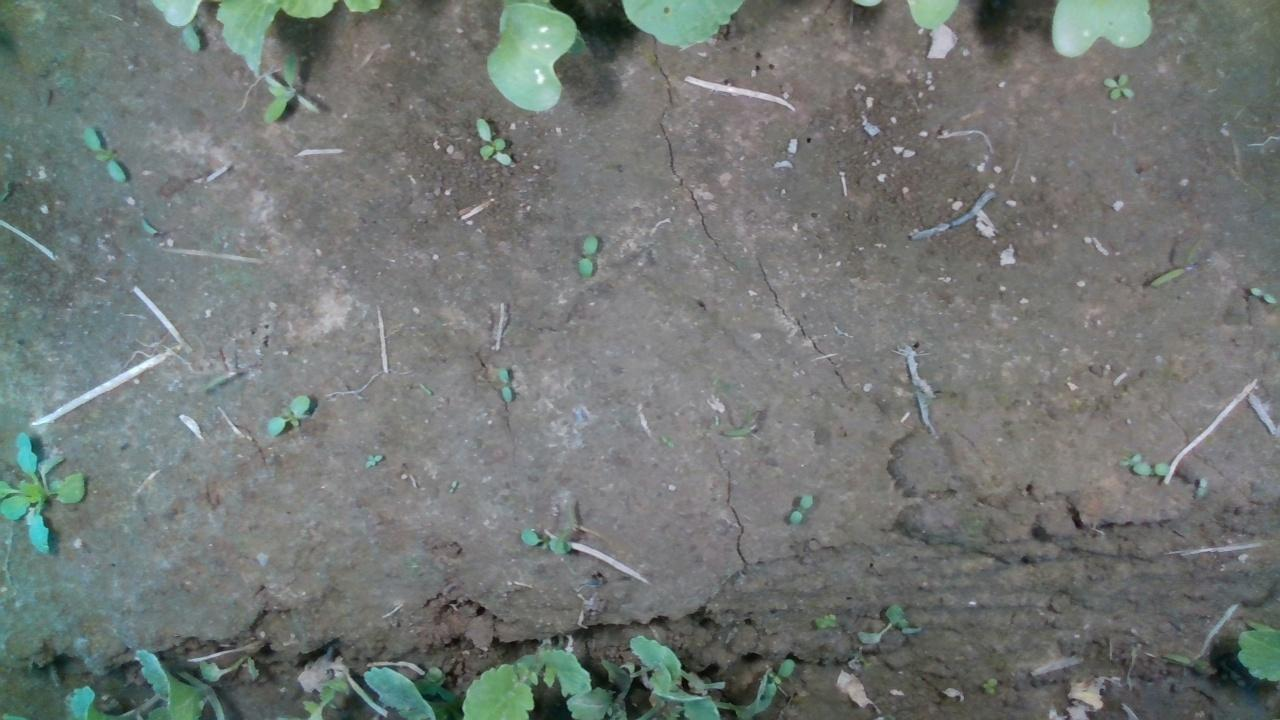weed: (80, 123, 126, 183), (265, 392, 312, 435), (474, 115, 513, 166), (785, 493, 814, 527), (1100, 72, 1134, 100), (576, 234, 598, 276), (494, 364, 513, 401), (1248, 285, 1276, 304), (1192, 474, 1209, 499), (362, 450, 384, 469), (980, 676, 998, 695), (415, 380, 432, 396), (659, 434, 674, 450), (445, 479, 458, 494)
